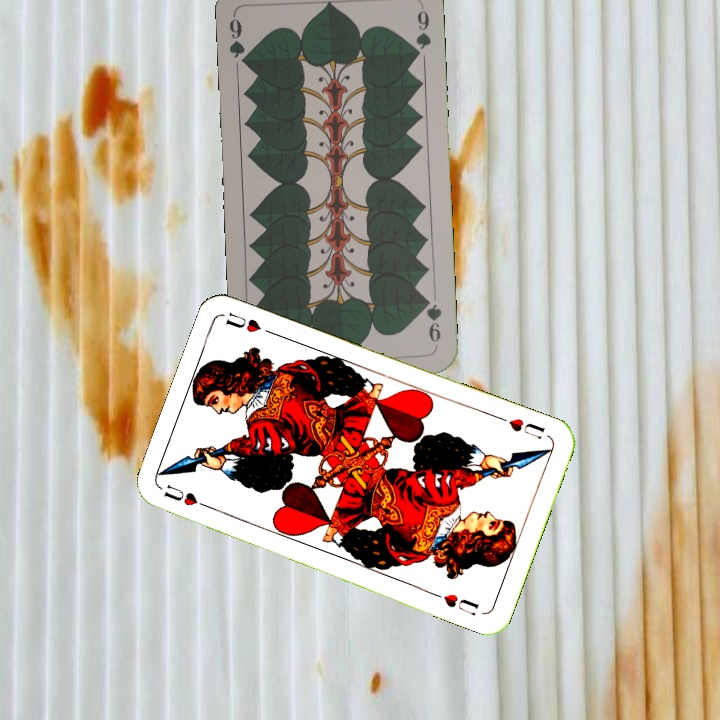G9: (225, 12, 252, 70), (420, 294, 444, 345)
HU: (159, 480, 215, 512), (494, 412, 548, 442)
